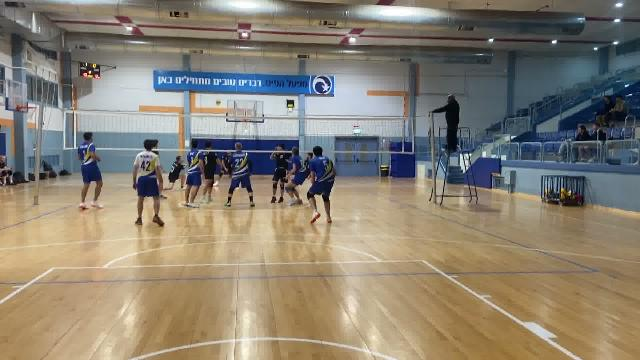ball: (213, 97, 226, 109)
